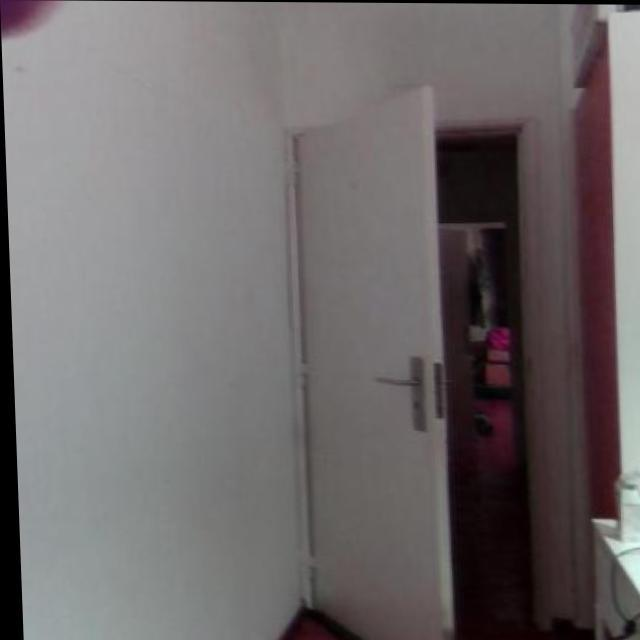door_handle: (361, 370, 420, 393)
